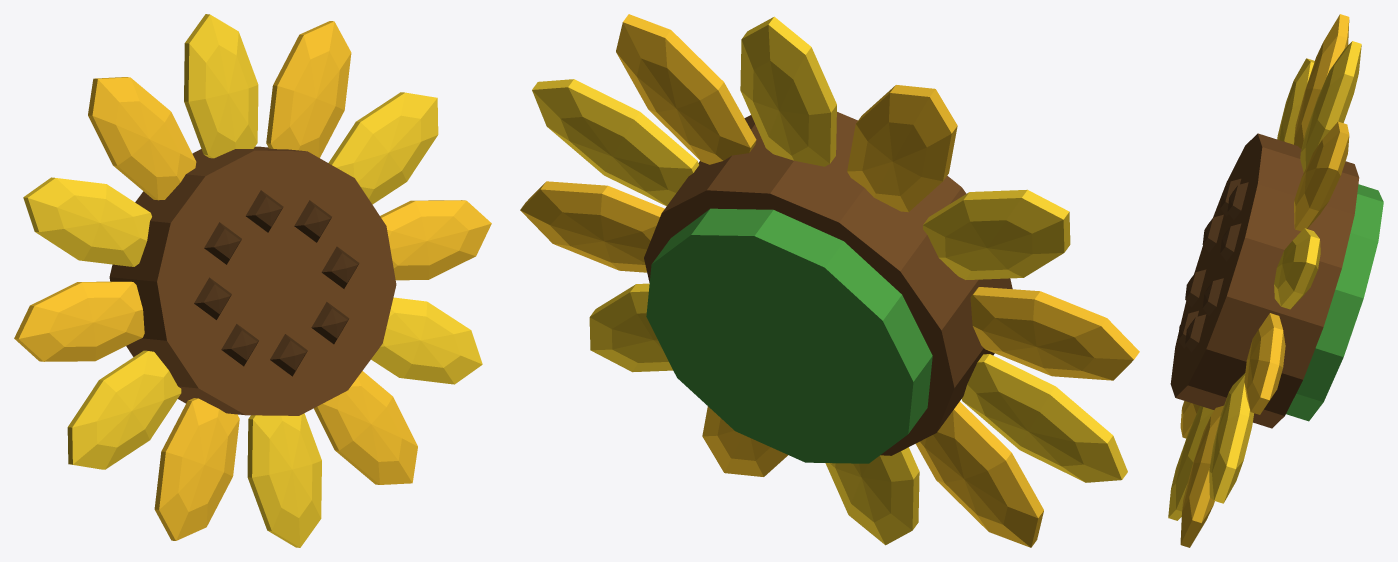
File: Fruto_Sunflower.fbx
3 renders of one model, left to right at view 1: azimuth 30°, elevation 25°; view 2: azimuth 150°, elevation 25°; view 3: azimuth 270°, elevation 25°, orthographic. The views are drawn at different scales.
Visible parts, largest first — view 1: Produto_Sunflower, Cabo_Sunflower; view 2: Produto_Sunflower, Cabo_Sunflower; view 3: Cabo_Sunflower, Produto_Sunflower.
Part boxes in pixels (box(x1,y1,x2,y2)): Produto_Sunflower: box(14, 14, 491, 547); Cabo_Sunflower: box(109, 146, 396, 415); Produto_Sunflower: box(520, 14, 1139, 547); Cabo_Sunflower: box(644, 112, 1012, 463); Cabo_Sunflower: box(1170, 133, 1383, 428); Produto_Sunflower: box(1168, 14, 1361, 547).
Size of the model in its own units: 0.8688 by 0.8251 by 0.3359.
1 material, 1 textured.
